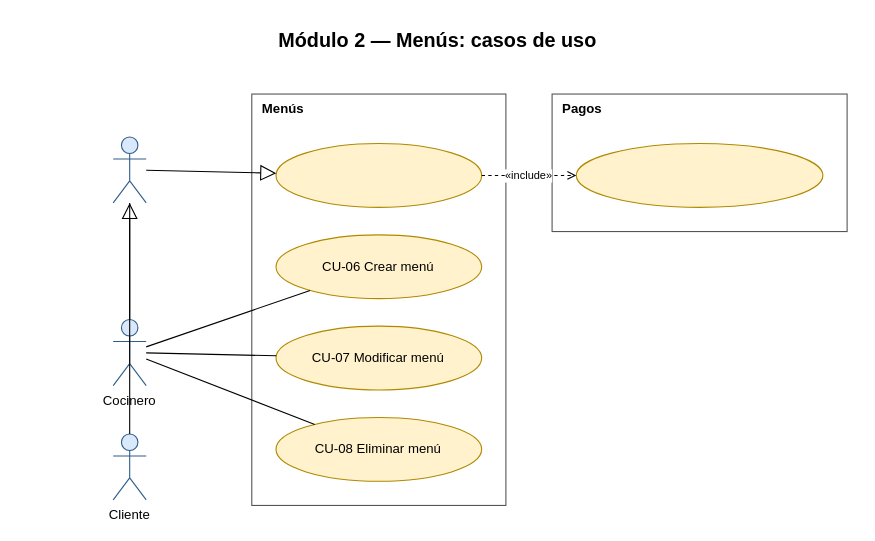
The diagram is 875 pixels wide and 541 high, and some of its shapes have lost their labels. Each missing label, with the centre of its shape:
"CU-05 Consultar menús" goes at point 378,174.
"CU-17 Vencer reservas impagas" goes at point 699,174.
"Usuario" goes at point 129,169.
